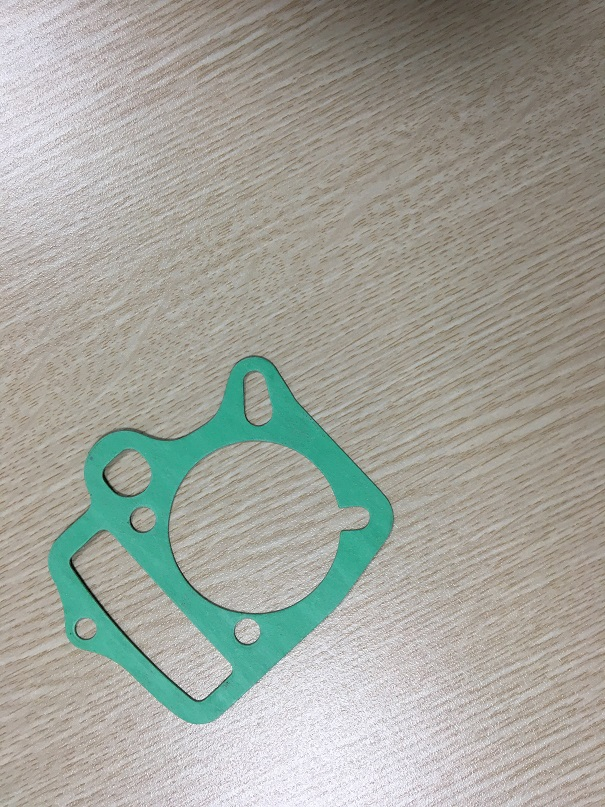type4: (42, 354, 403, 731)
